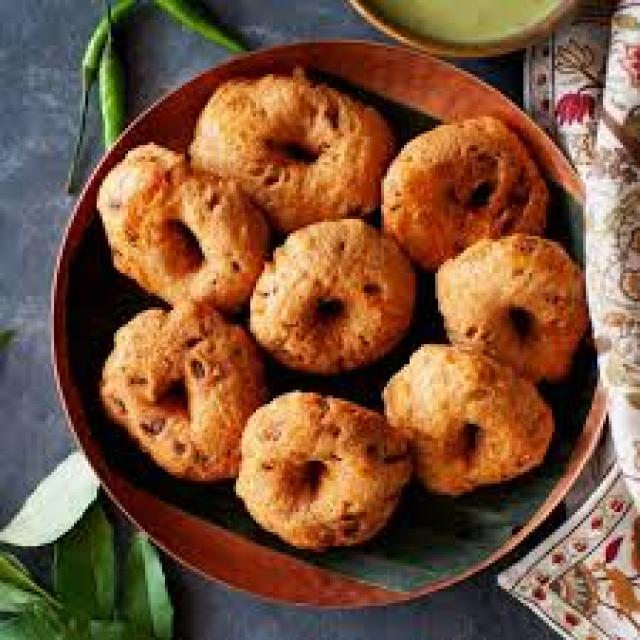MEDU VADA: (191, 68, 393, 230), (97, 142, 270, 307), (102, 304, 265, 478), (239, 393, 410, 546), (250, 219, 412, 373), (384, 344, 549, 492), (381, 117, 543, 267), (435, 233, 586, 381)
